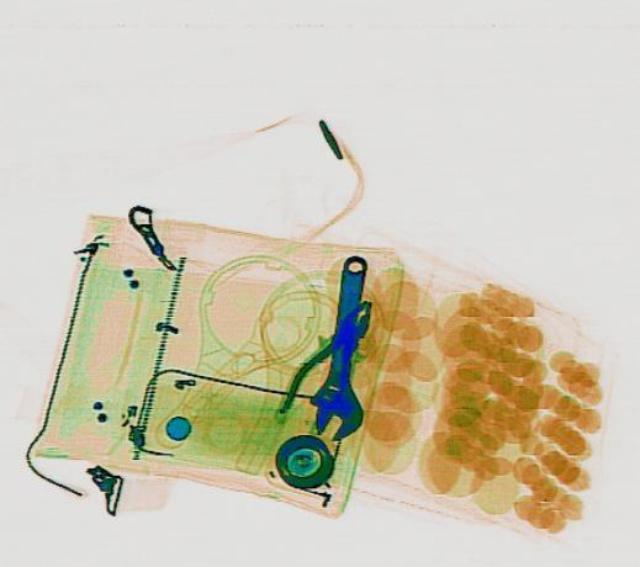Pliers: (272, 288, 398, 429)
Wrench: (306, 251, 380, 444)
